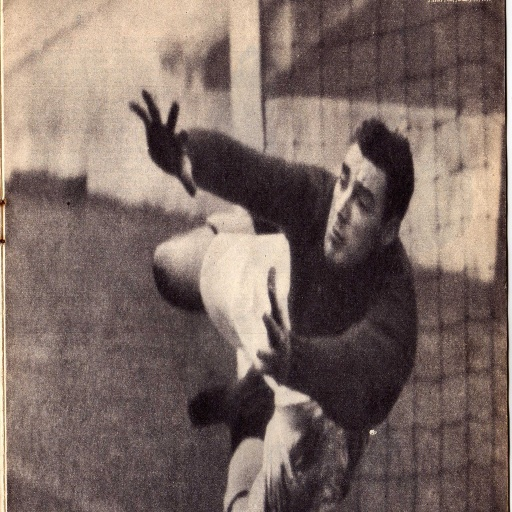hand: (127, 86, 197, 197), (264, 285, 294, 377)
